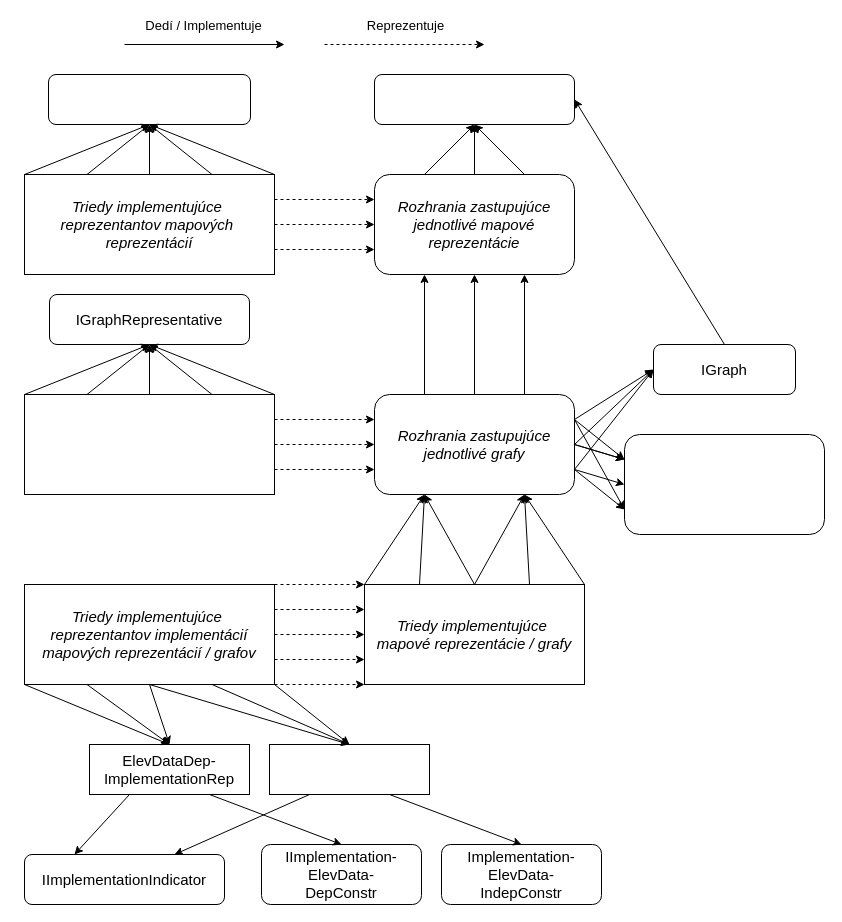
The diagram is 842 pixels wide and 922 high, and some of its shapes have lost their labels. Each missing label, with the box of its shape:
ElevDataIndep- ImplementationRep: (268, 744, 430, 794)
IMapRepre: (374, 74, 574, 124)
IMapRepreRepresentative: (48, 74, 250, 124)
Rozhrania definujúce funkcionalitu grafov: (624, 434, 824, 534)
Triedy implementujúce grafových reprezentantov: (24, 394, 274, 494)
